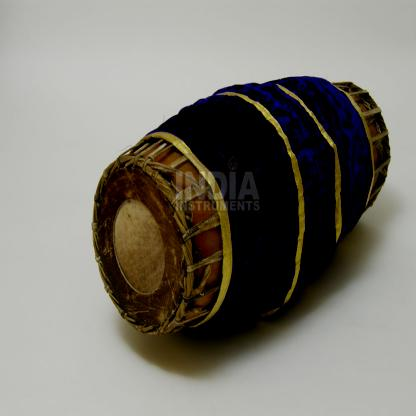Mridangam: (86, 61, 411, 345)
